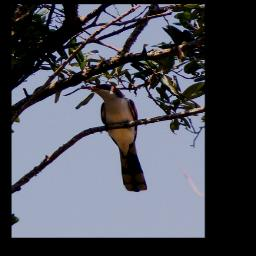Cuckoo: (81, 83, 150, 194)
